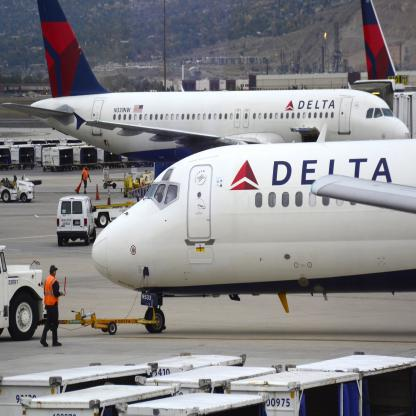CIV_Plane: (1, 0, 414, 162), (87, 132, 415, 331)
